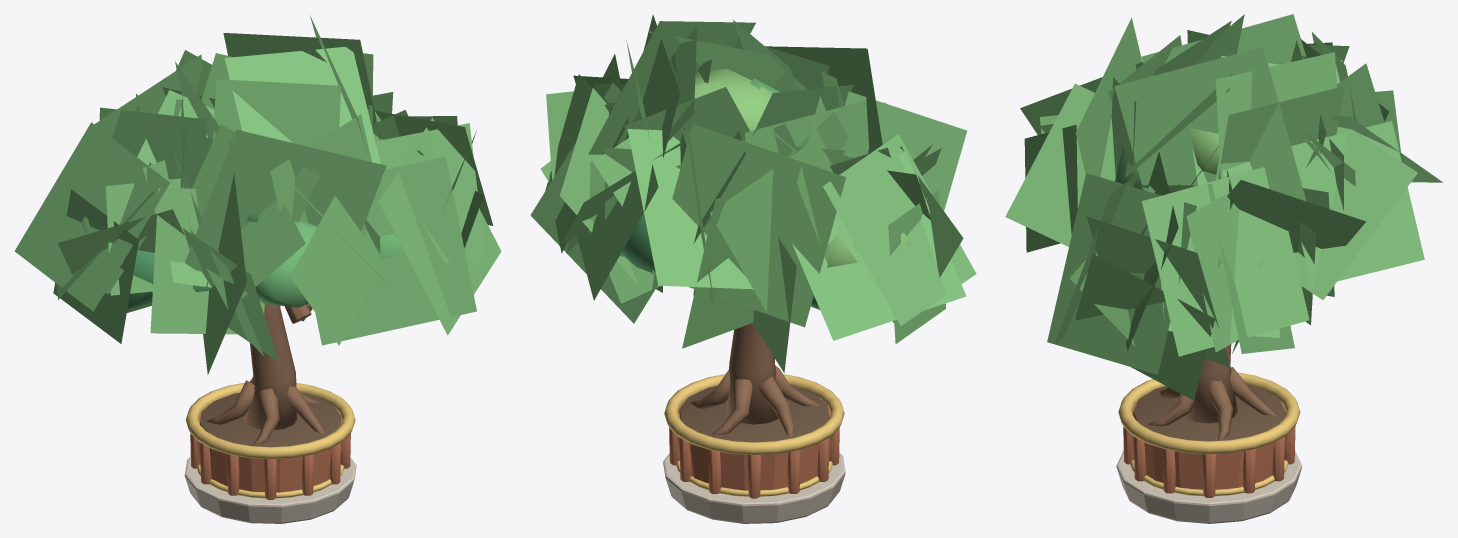
File: garden_tree.glb
The picture shows the model from 3 angles, left to right: view 1: azimuth 30°, elevation 25°; view 2: azimuth 150°, elevation 25°; view 3: azimuth 270°, elevation 25°; orthographic projection. The views are drawn at different scales.
Visible parts, largest first — view 1: SilhouetteLeafCards, CurvedTrunk, PlanterFlute_0, PlanterBase, Cord0, PlanterSoilDisc, LeafClump0, LeafClump2; view 2: SilhouetteLeafCards, PlanterFlute_0, CurvedTrunk, PlanterBase, Cord0, PlanterSoilDisc, LeafClump1, LeafClump2; view 3: SilhouetteLeafCards, PlanterFlute_0, PlanterBase, Cord0, CurvedTrunk, PlanterSoilDisc, LeafClump1.
Part boxes in pixels (<box>): SilhouetteLeafCards: <box>14,15,501,374</box>; CurvedTrunk: <box>207,303,324,445</box>; PlanterFlute_0: <box>190,406,350,499</box>; PlanterBase: <box>184,457,356,523</box>; Cord0: <box>185,383,355,498</box>; PlanterSoilDisc: <box>200,393,341,447</box>; LeafClump0: <box>205,137,402,307</box>; LeafClump2: <box>122,250,209,309</box>; SilhouetteLeafCards: <box>530,14,976,372</box>; PlanterFlute_0: <box>669,398,839,498</box>; CurvedTrunk: <box>691,289,819,436</box>; PlanterBase: <box>663,453,845,523</box>; Cord0: <box>664,374,844,496</box>; PlanterSoilDisc: <box>679,385,829,442</box>; LeafClump1: <box>651,69,910,267</box>; LeafClump2: <box>621,213,819,309</box>; SilhouetteLeafCards: <box>1005,14,1442,400</box>; PlanterFlute_0: <box>1123,402,1295,497</box>; PlanterBase: <box>1116,450,1302,523</box>; Cord0: <box>1118,372,1300,496</box>; CurvedTrunk: <box>1148,344,1276,439</box>; PlanterSoilDisc: <box>1133,384,1285,441</box>; LeafClump1: <box>1190,128,1303,187</box>.
Bounding box in the file's own units: 5.36 × 5.48 × 4.58.
